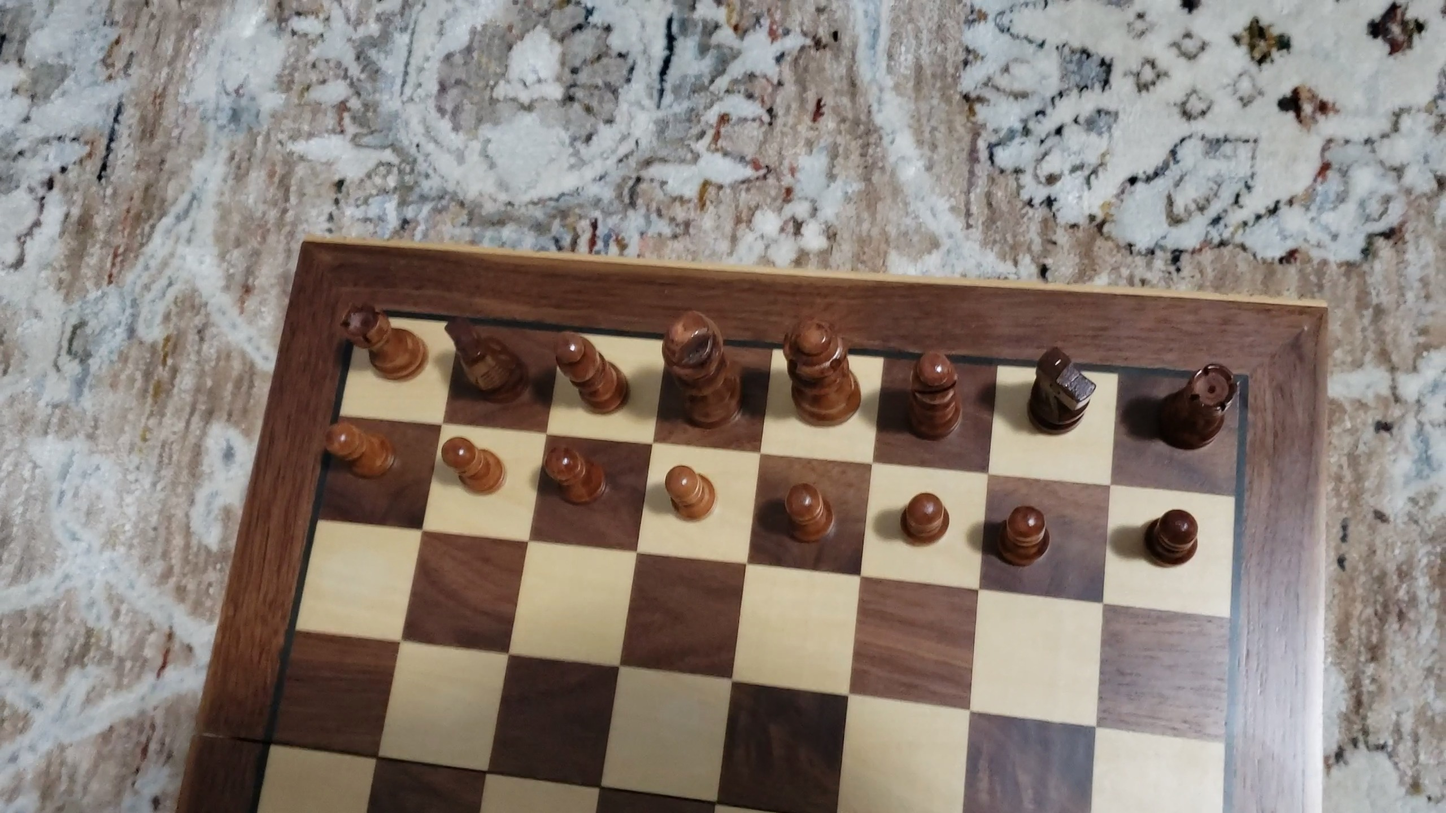black-bishop: (552, 330, 629, 414), (907, 346, 963, 443)
black-king: (660, 305, 746, 430)
black-knight: (445, 316, 530, 403), (1025, 343, 1096, 435)
black-pawn: (323, 420, 395, 481), (542, 441, 607, 507), (992, 501, 1053, 570), (1139, 505, 1203, 570), (439, 434, 506, 496), (781, 478, 837, 546), (661, 461, 717, 525), (899, 488, 952, 548)
black-queen: (779, 313, 863, 427)
black-rook: (1152, 361, 1242, 452), (341, 301, 426, 381)
